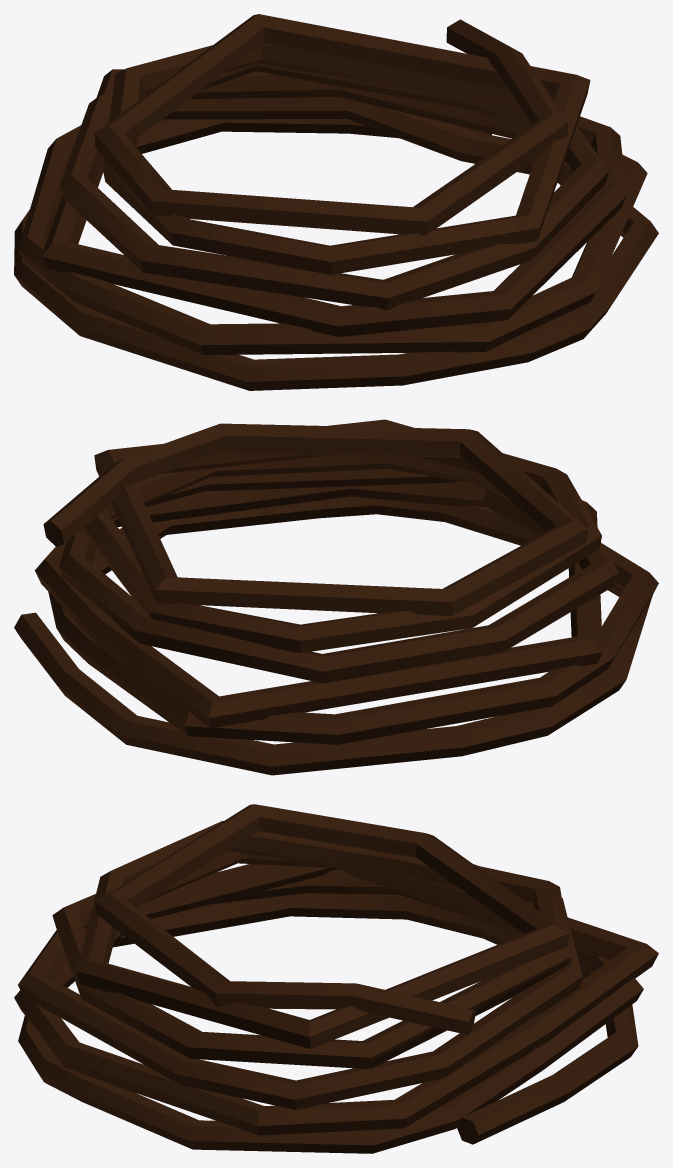
Rendered from BIW_RopeCoil.fbx.
3 views of the same model, one above another, from view 1: azimuth 30°, elevation 25°; view 2: azimuth 150°, elevation 25°; view 3: azimuth 270°, elevation 25° (orthographic). The views are drawn at different scales.
Parts seen in each view (by area): view 1: Rope Coil; view 2: Rope Coil; view 3: Rope Coil.
Part boxes in pixels (x1,y1,x2,y2): Rope Coil: (14, 14, 658, 390); Rope Coil: (14, 419, 658, 775); Rope Coil: (14, 804, 658, 1153).
Bounding box in the file's own units: 66.69 × 16.94 × 70.17.
